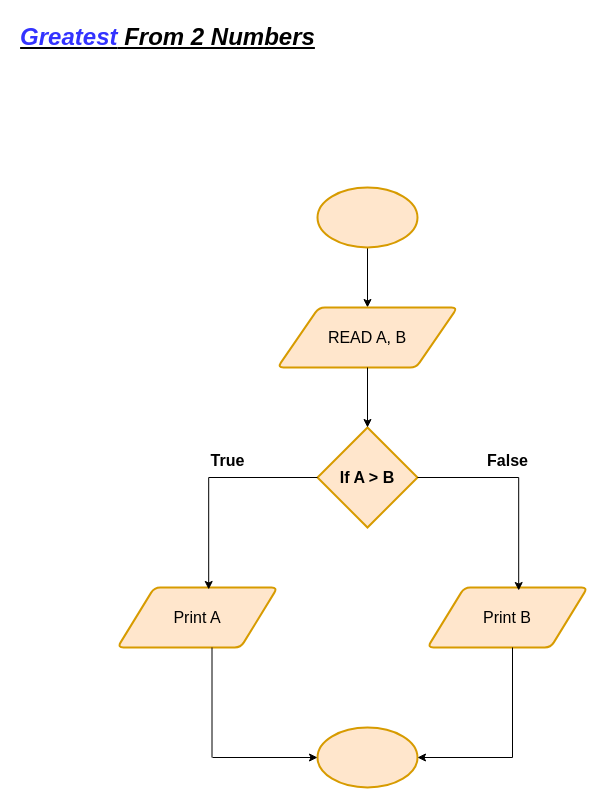
Some shapes in this 605 by 805 pixel diagram are drawn without their labels. The shapes that lost their labels are listed below. From the top down, each one's centre as x and y in pixels, then its label:
At (367,217): "Start".
At (367,757): "End".
